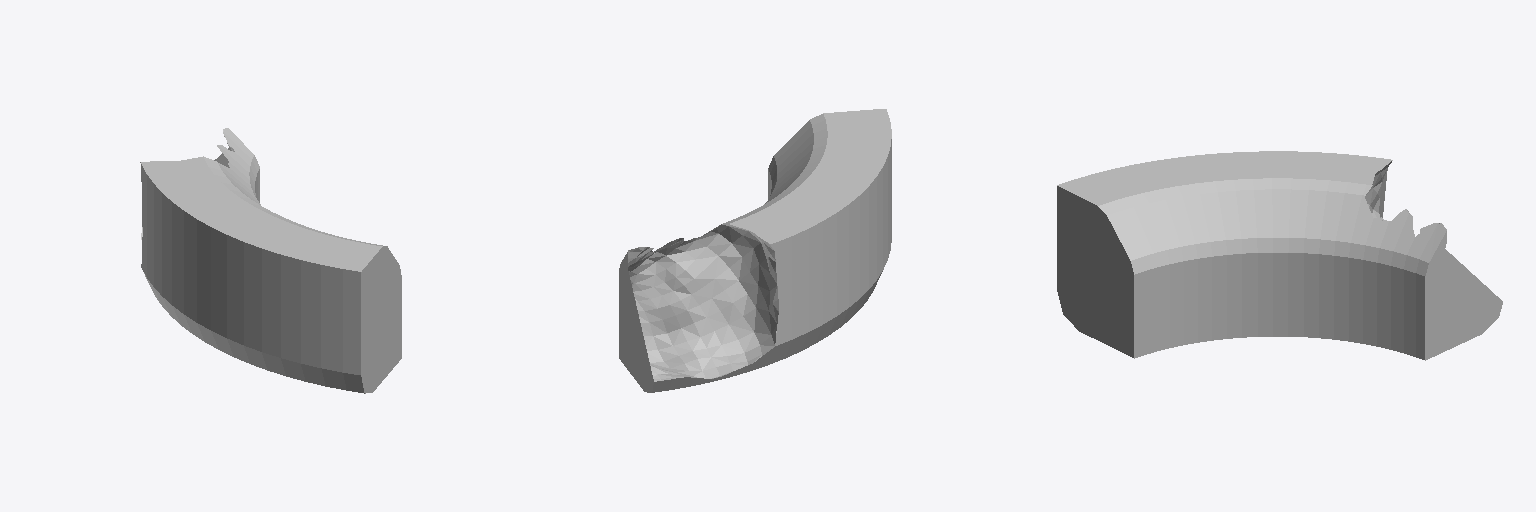
Rendered from CircleBlock11.obj.
3 renders of one model, left to right at view 1: azimuth 30°, elevation 25°; view 2: azimuth 150°, elevation 25°; view 3: azimuth 270°, elevation 25°, orthographic.
Visible parts, largest first — view 1: CircleBlock11; view 2: CircleBlock11; view 3: CircleBlock11.
Part boxes in pixels (x1,y1,x2,y2): CircleBlock11: (140, 128, 401, 393); CircleBlock11: (619, 109, 891, 392); CircleBlock11: (1057, 151, 1502, 360).
Bounding box in the file's own units: 9.1 × 7.63 × 22.95.